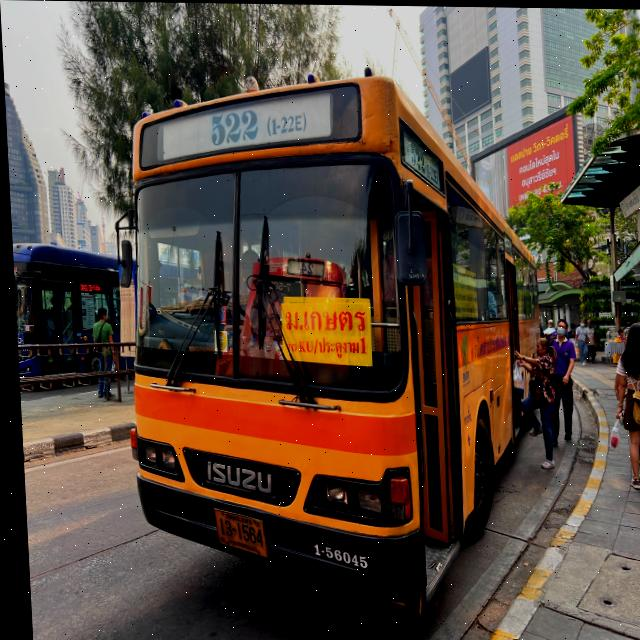BMTA-bus: (111, 58, 555, 630)
Bus Line Number: (200, 106, 313, 152)
Bus Side Number: (300, 535, 368, 573)
Destination Sign: (274, 295, 370, 364)
